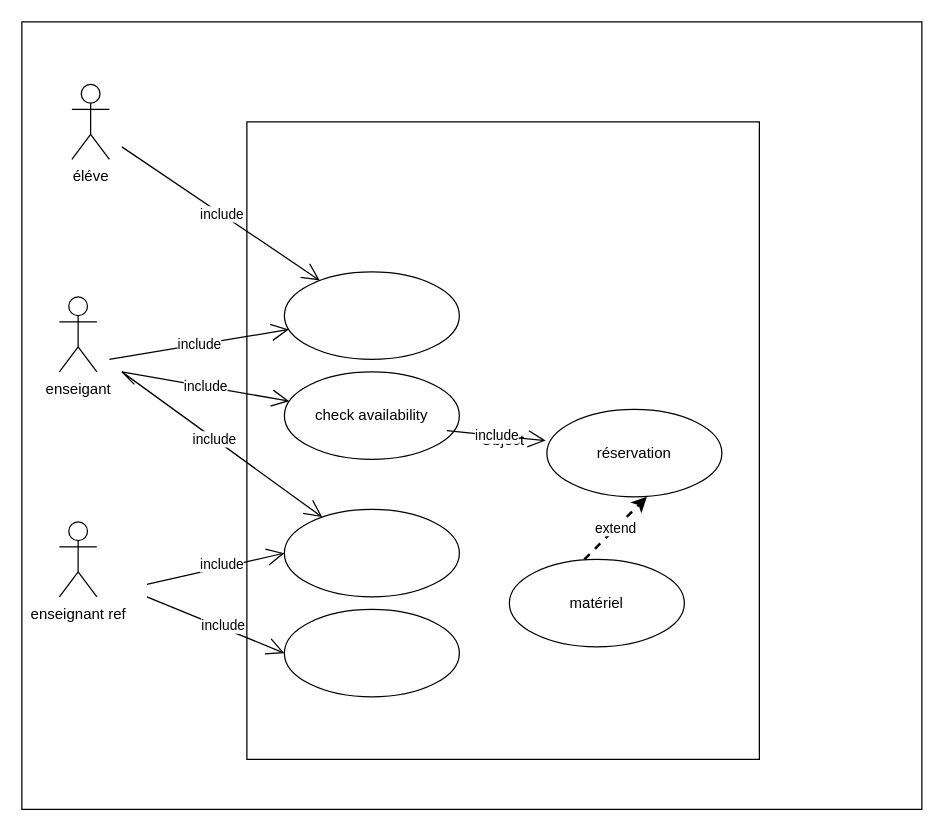
Image size: 944x831. Some labels were removed from this diagram. Each missing label, with the centre of its shape:
change hours: point 371,652
look hours: point 371,552
views planning: point 371,315
